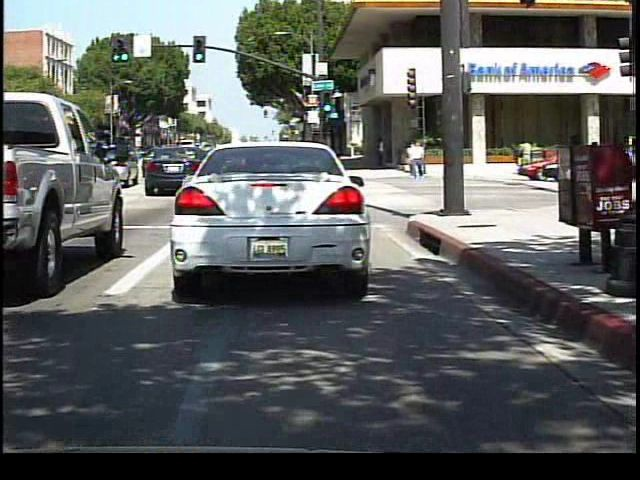person: (515, 135, 537, 177), (407, 136, 427, 179), (442, 136, 460, 176)
